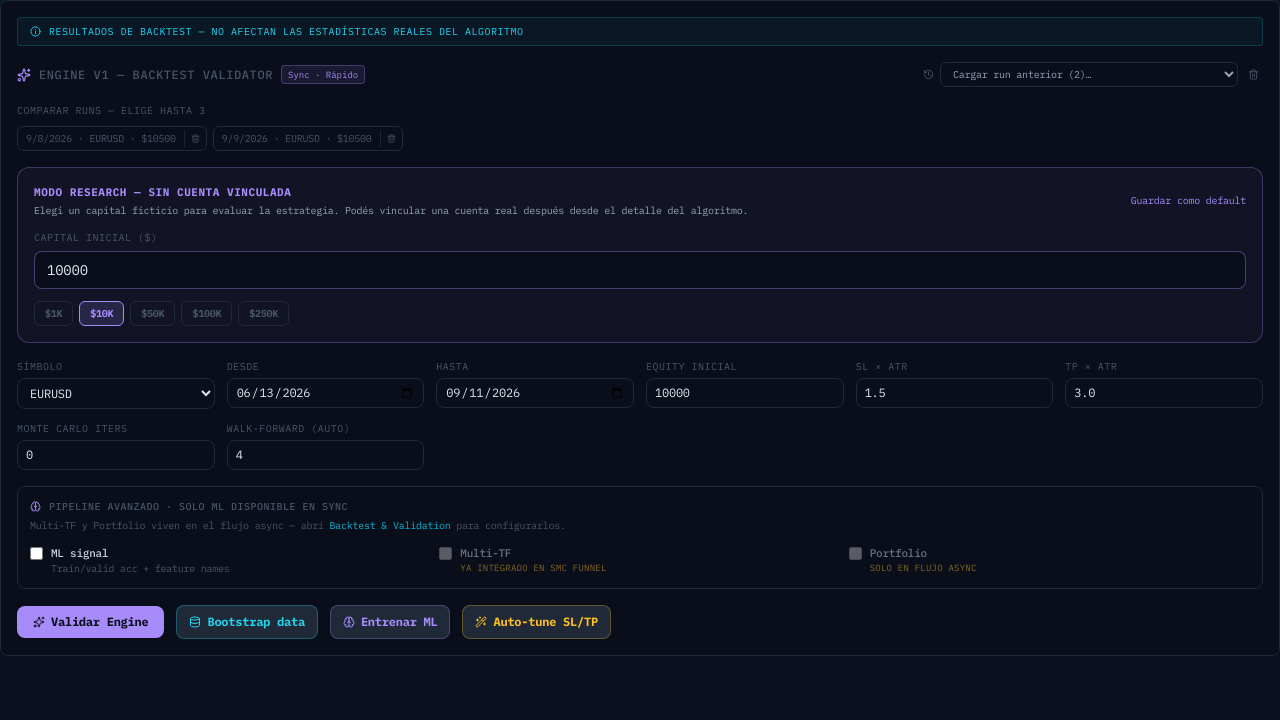
it: EngineBacktestPanel — Compare params snapshot (Mejora #7) › renders the Params section under the metrics table when 2+ runs selected
Expected: the text "Comparar runs — elige hasta 3" is shown, [17,104,206,117]
Click the button "9/8/2026 · EURUSD · $10500": coordinates (101, 138) [18,127,184,150]
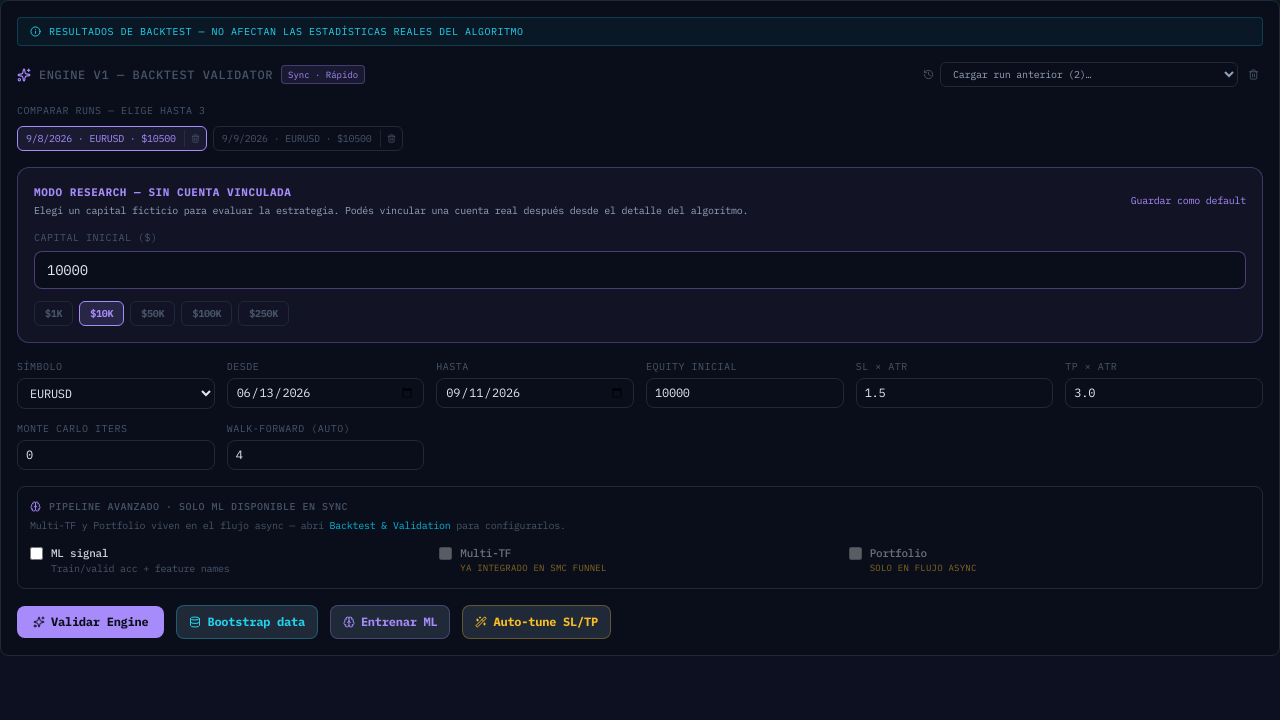
Click the button "9/9/2026 · EURUSD · $10500": coordinates (297, 138) [214,127,380,150]
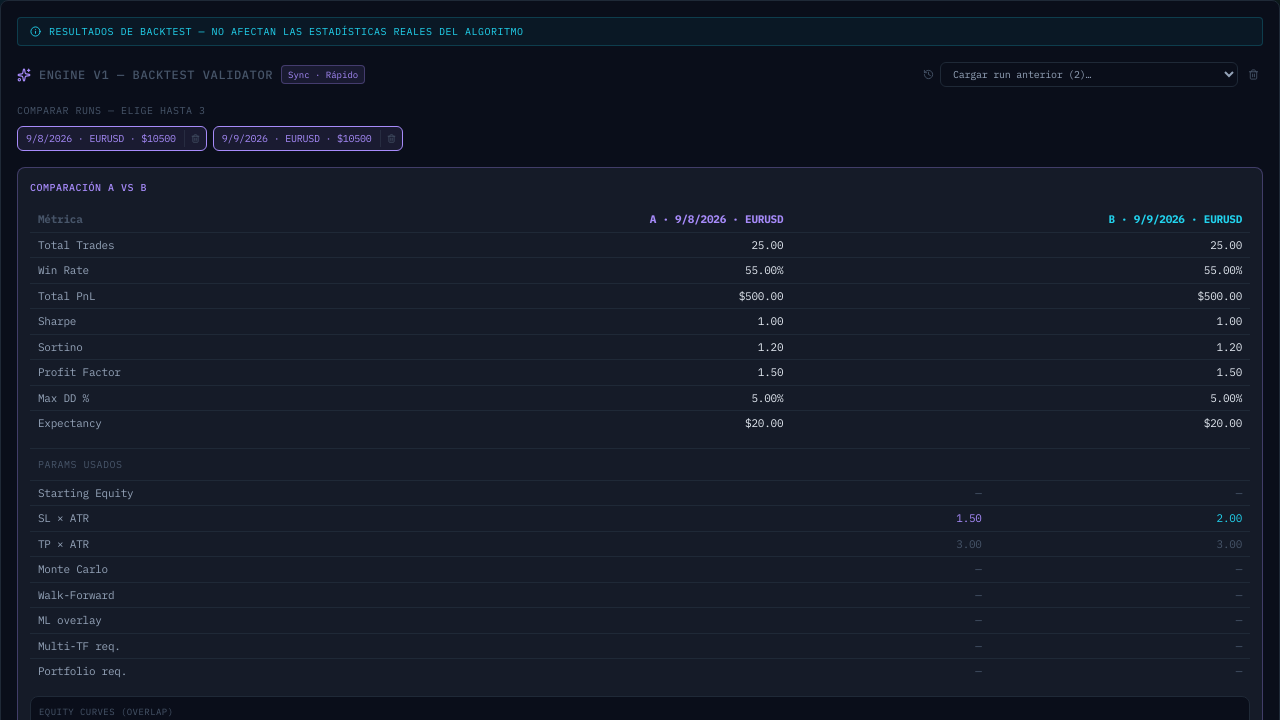
Expected: the element with test id "compare-params" is shown, [30,448,1250,684]
Expected: the text "Params usados" is shown, [38,458,122,470]
